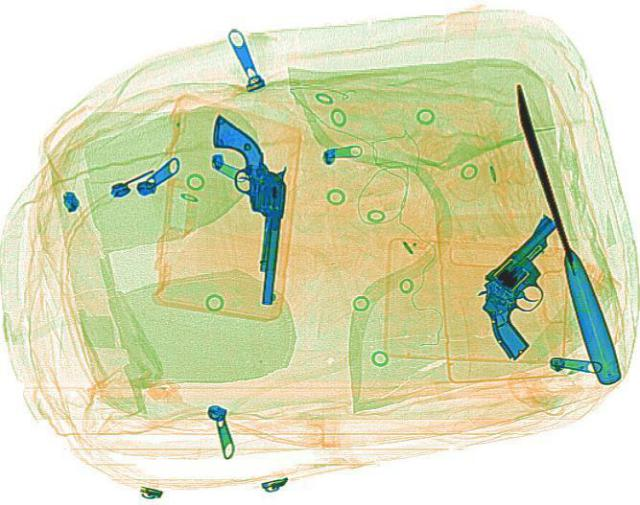Gun: (438, 212, 622, 359), (195, 112, 293, 303)
Knife: (502, 81, 624, 386)
